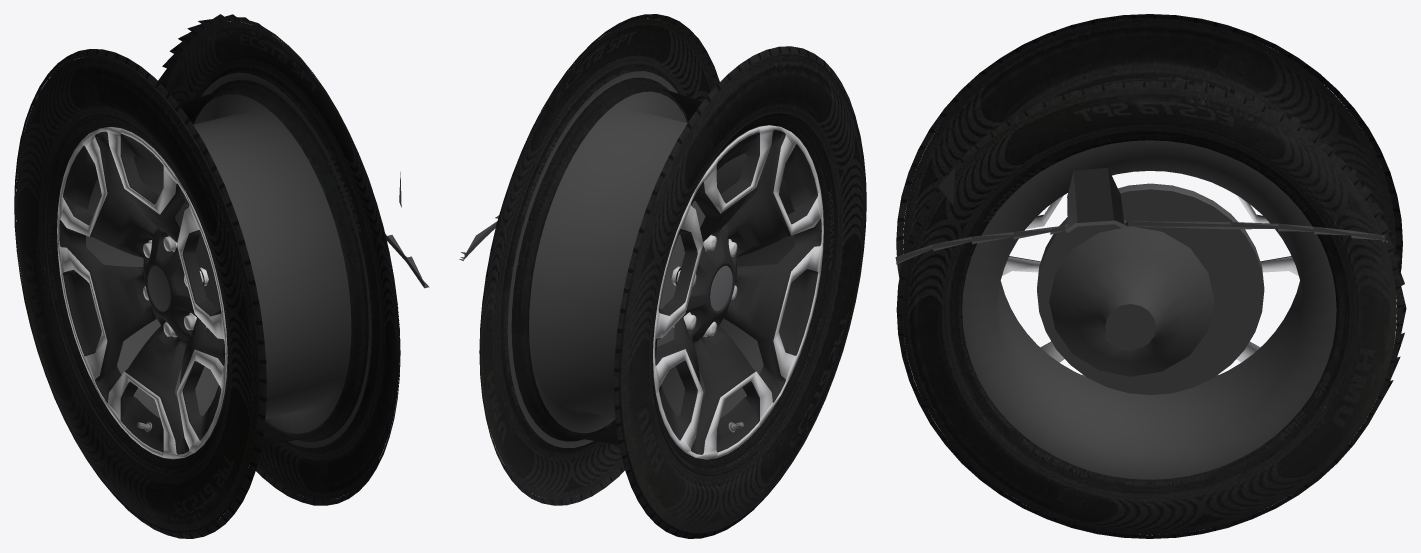
Rendered from hilux_wheelRR.glb.
The picture shows the model from 3 angles, left to right: view 1: azimuth 30°, elevation 25°; view 2: azimuth 150°, elevation 25°; view 3: azimuth 270°, elevation 25°; orthographic projection.
Visible parts, largest first — view 1: hilux_wheelRR; view 2: hilux_wheelRR; view 3: hilux_wheelRR.
Part boxes in pixels (bbox=[...]): hilux_wheelRR: bbox=[14, 14, 429, 538]; hilux_wheelRR: bbox=[459, 14, 866, 538]; hilux_wheelRR: bbox=[895, 14, 1406, 538].
Bounding box in the file's own units: 0.2818 × 0.7169 × 0.7201.
11 materials, 2 textured.
